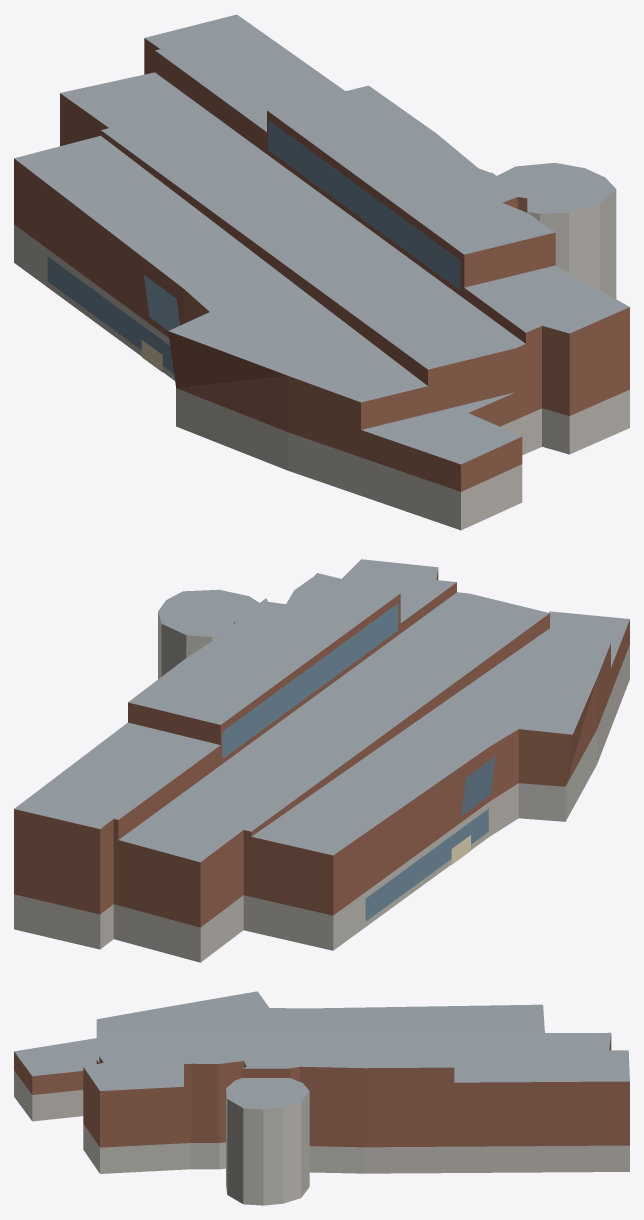
Rendered from slc-natural-history-museum.glb.
3 renders of one model, top to bottom at view 1: azimuth 30°, elevation 25°; view 2: azimuth 150°, elevation 25°; view 3: azimuth 270°, elevation 25°, orthographic. The views are drawn at different scales.
Visible parts, largest first — view 1: Natural History Museum of Utah; view 2: Natural History Museum of Utah; view 3: Natural History Museum of Utah.
Part boxes in pixels (box(x1,y1,x2,y2)): Natural History Museum of Utah: box(14, 14, 629, 530); Natural History Museum of Utah: box(14, 559, 629, 962); Natural History Museum of Utah: box(14, 991, 629, 1205).
Bounding box in the file's own units: 84 × 28 × 148.
